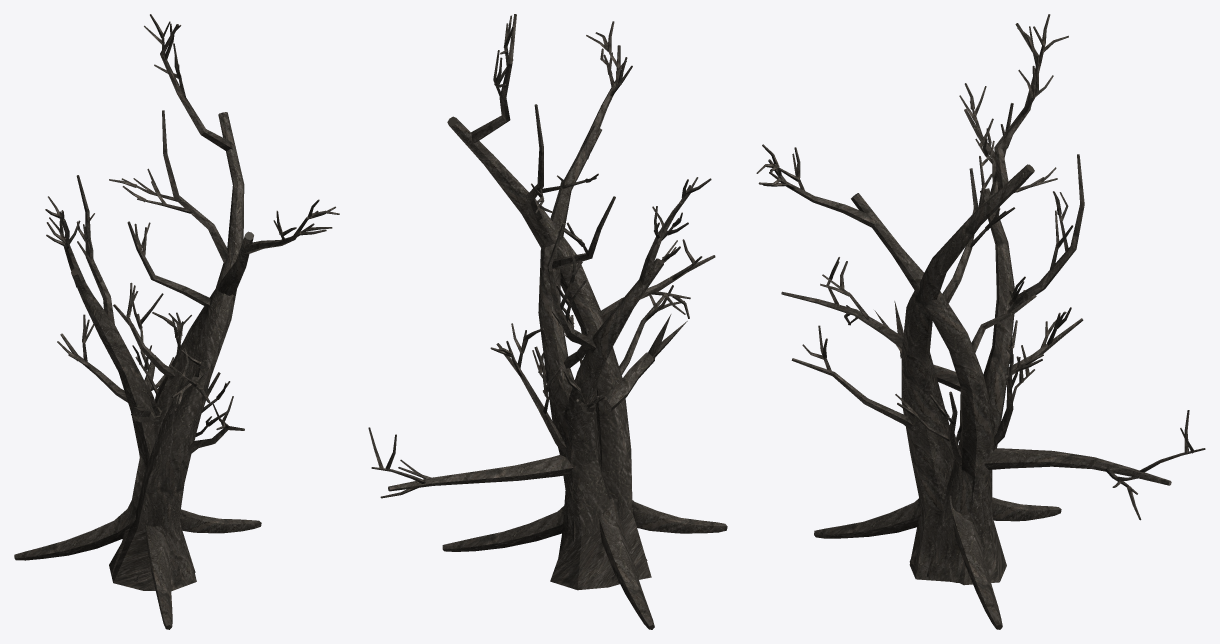
Rendered from dead_tree_c.glb.
3 renders of one model, left to right at view 1: azimuth 30°, elevation 25°; view 2: azimuth 150°, elevation 25°; view 3: azimuth 270°, elevation 25°, orthographic. The views are drawn at different scales.
Parts seen in each view (by area): view 1: dead_tree_c; view 2: dead_tree_c; view 3: dead_tree_c.
Boxes of the visible parts, box(x1,y1,x2,y2) form: dead_tree_c: box(14, 14, 339, 629); dead_tree_c: box(368, 14, 727, 629); dead_tree_c: box(756, 14, 1205, 629).
Size of the model in its own units: 2.33 by 5.03 by 3.57.
1 material, 1 textured.
